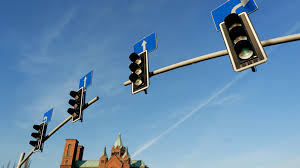traffic light: (202, 11, 270, 77), (119, 50, 159, 100), (59, 83, 95, 133), (27, 117, 53, 158)
